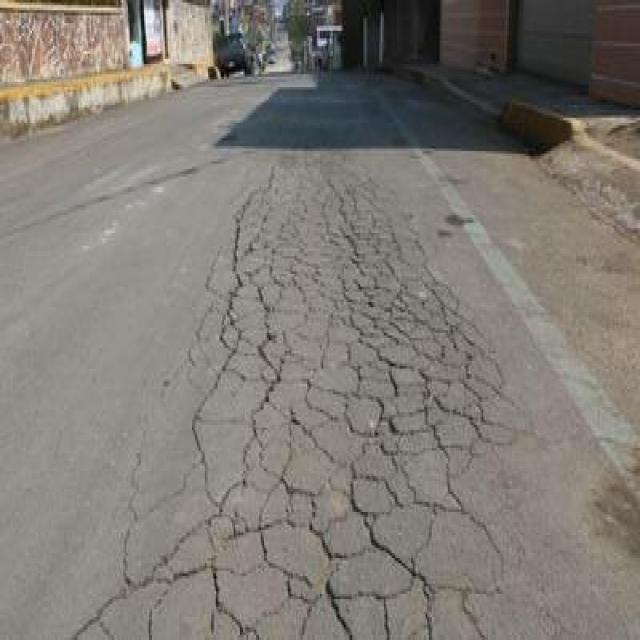Pothole: (205, 158, 485, 602)
